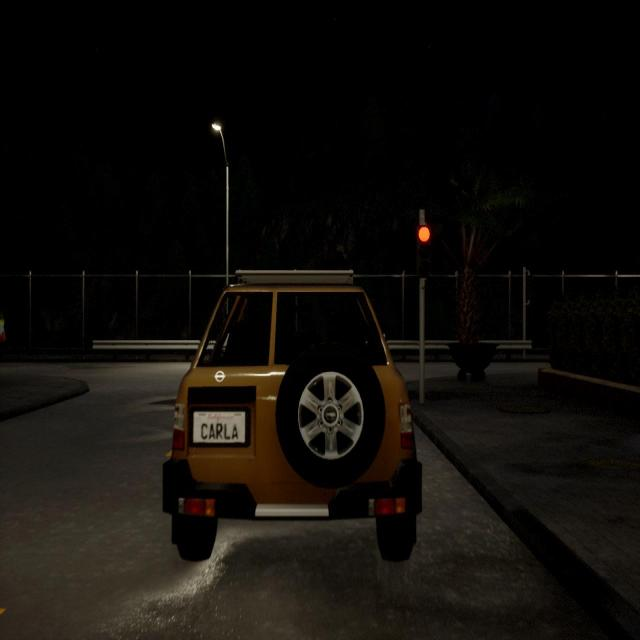Vehicle: (163, 270, 421, 560)
traffic_light: (416, 222, 432, 265), (526, 275, 532, 301)
